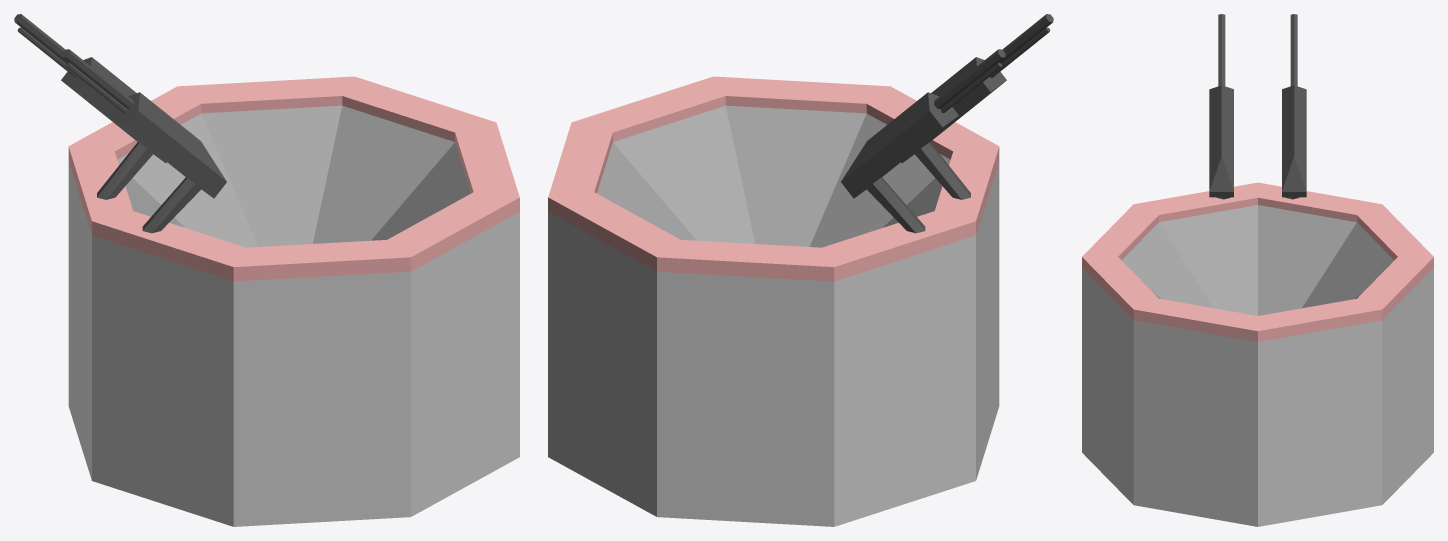
Rendered from TurretOne.fbx.
3 views of the same model, side by side, from view 1: azimuth 30°, elevation 25°; view 2: azimuth 150°, elevation 25°; view 3: azimuth 270°, elevation 25° (orthographic). The views are drawn at different scales.
Parts seen in each view (by area): view 1: TurretOne; view 2: TurretOne; view 3: TurretOne.
Boxes of the visible parts, x1,y1,x2,y2 form: TurretOne: [14, 14, 519, 526]; TurretOne: [548, 14, 1053, 526]; TurretOne: [1082, 14, 1433, 526].
Bounding box in the file's own units: 99.54 × 95.77 × 88.
